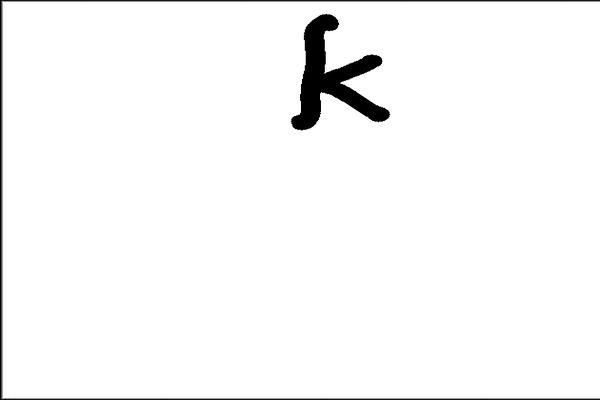K: (281, 7, 397, 140)
